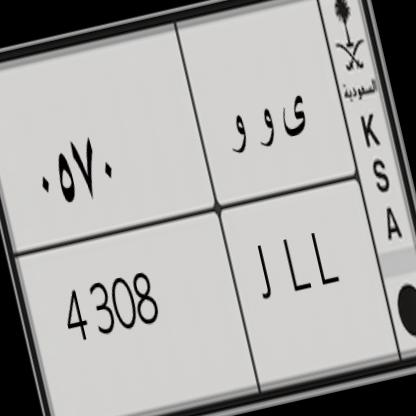english: (8, 162, 411, 416)
